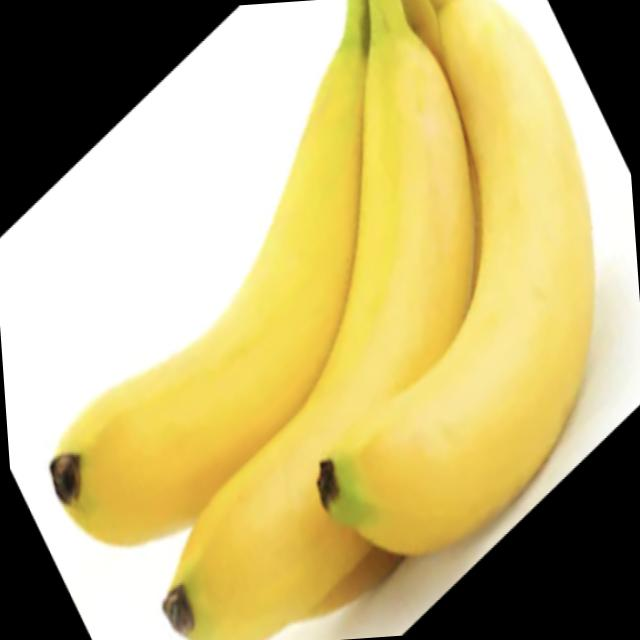banana: (108, 147, 579, 537)
